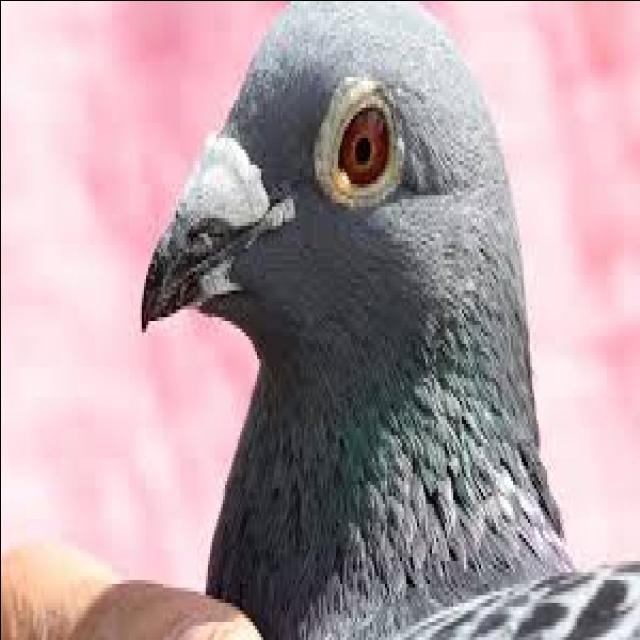pigeon: (135, 0, 638, 640)
